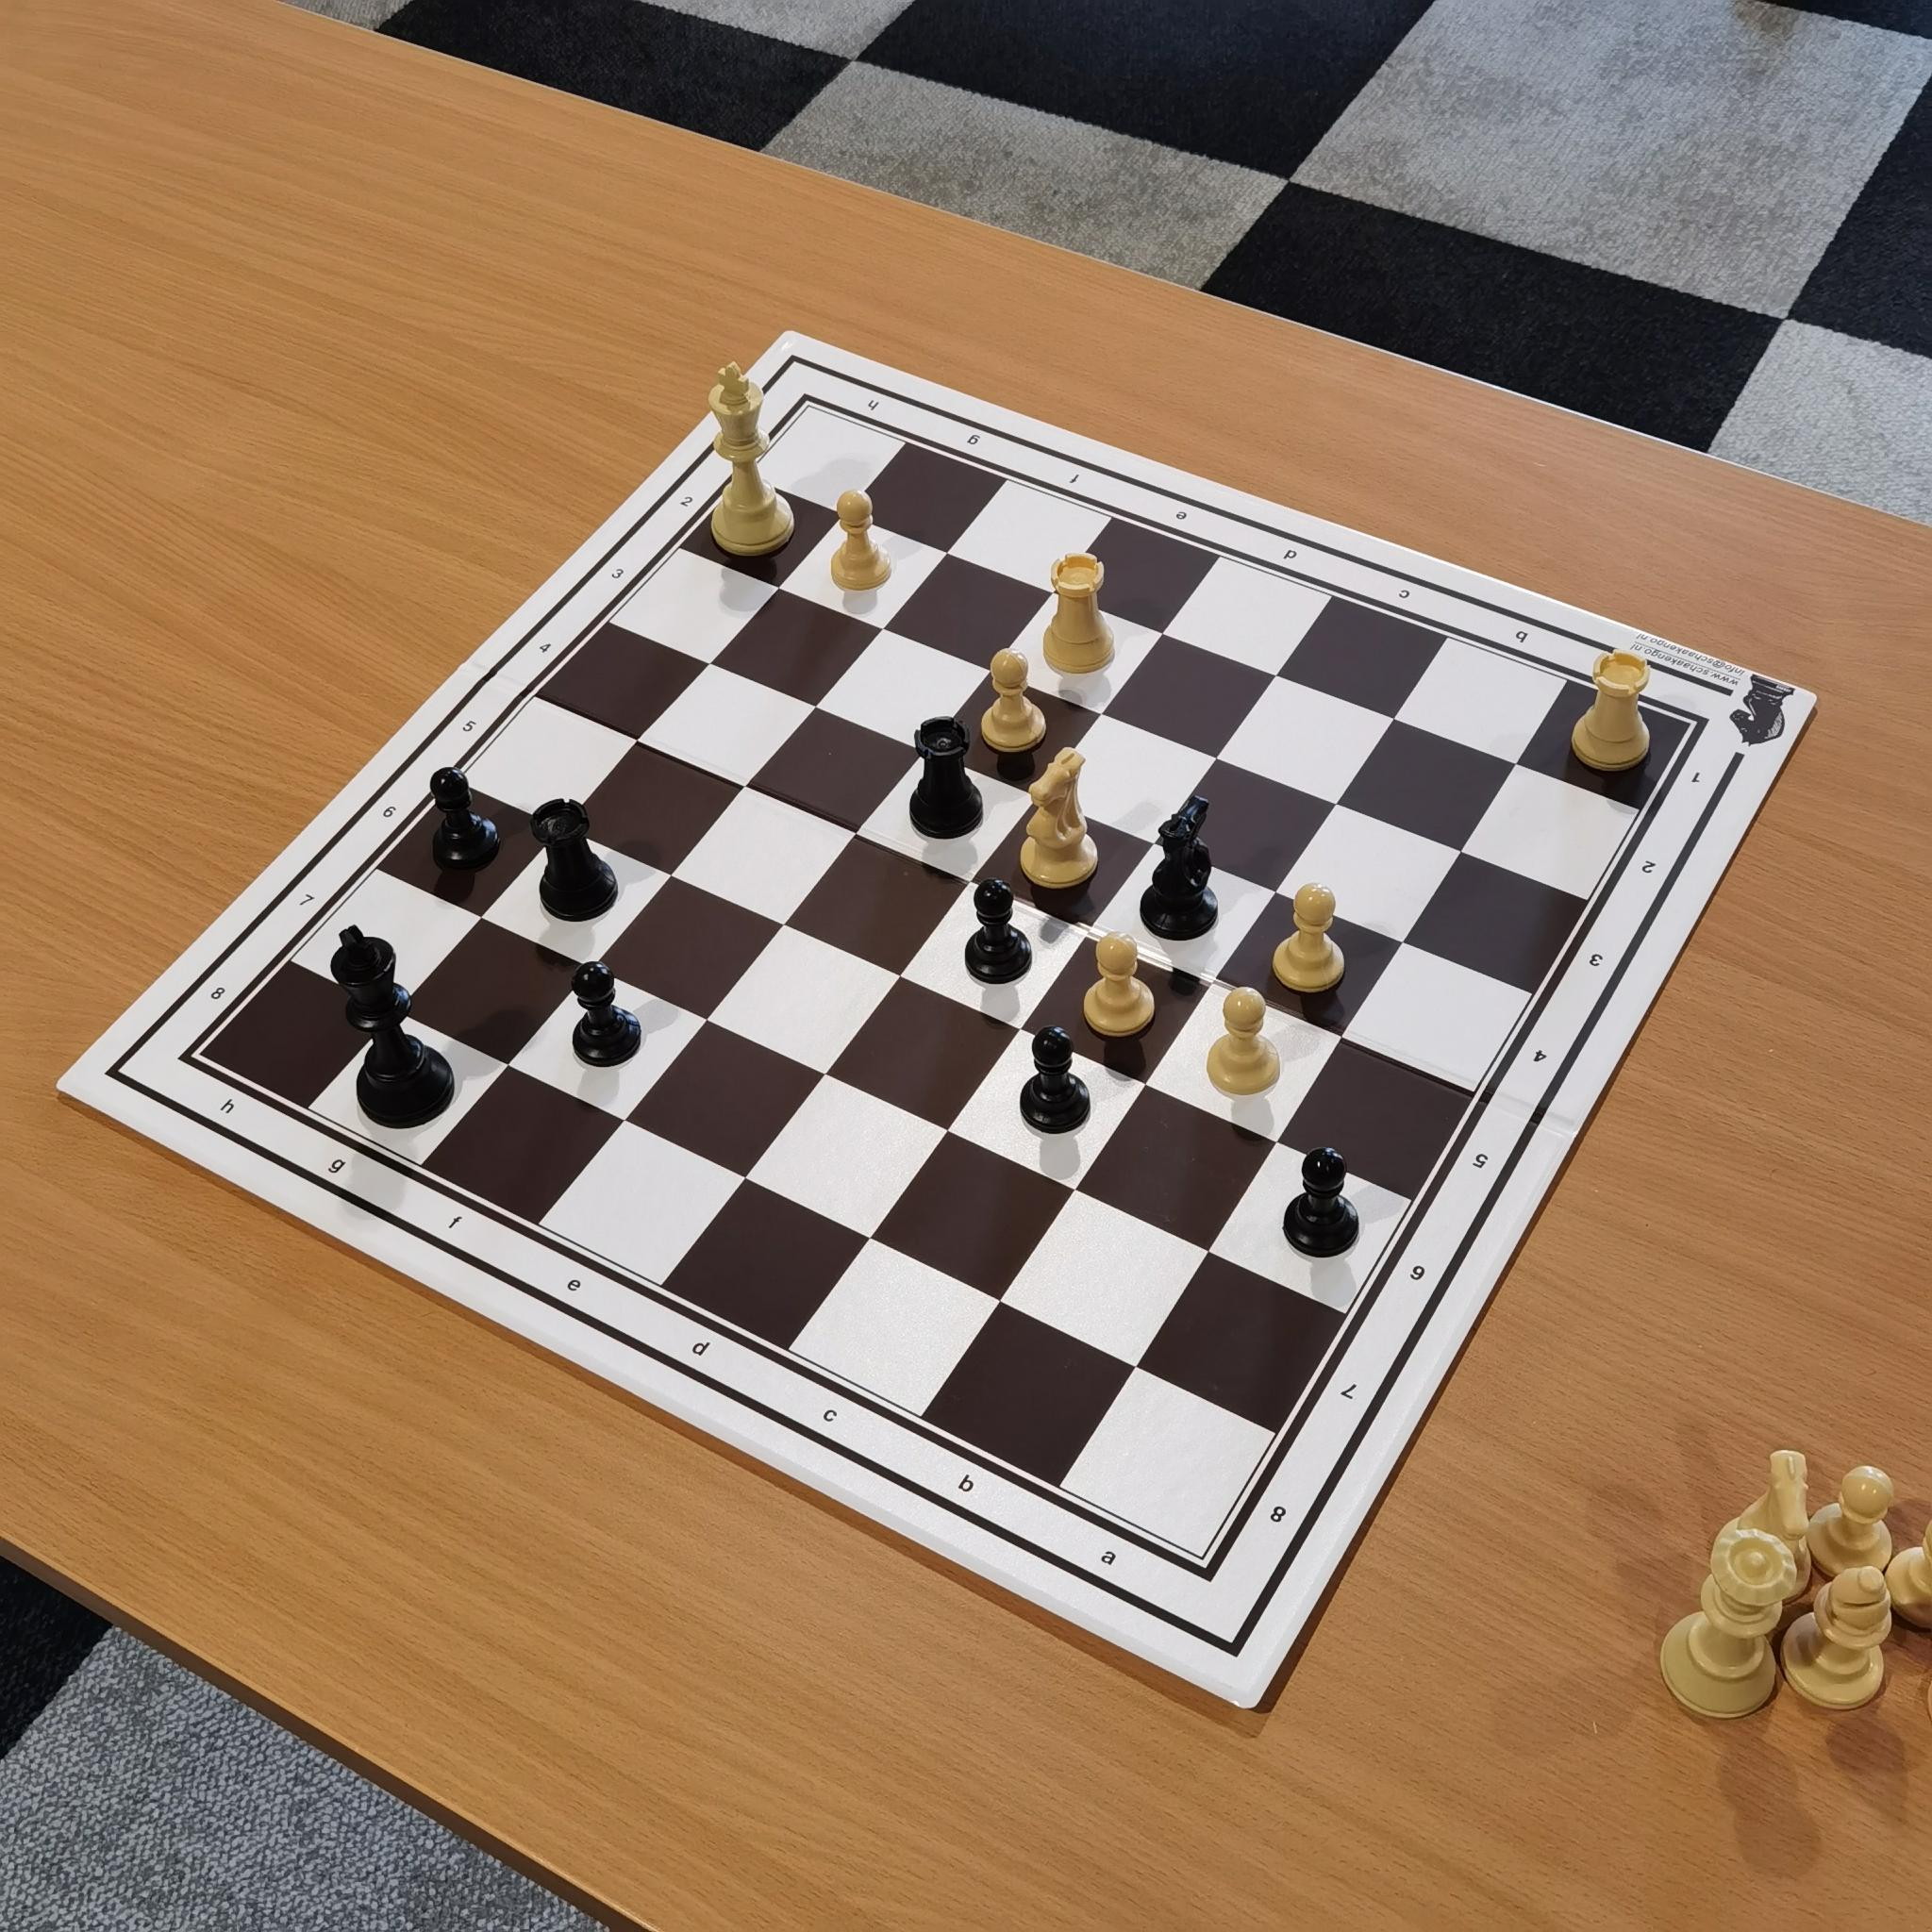corners: (1176, 1545, 1237, 1605), (165, 1040, 225, 1084), (1677, 708, 1732, 753), (790, 391, 838, 432)
eight: (192, 967, 250, 1019), (1257, 1486, 1307, 1534)
one: (1680, 754, 1720, 802), (738, 402, 783, 442)
